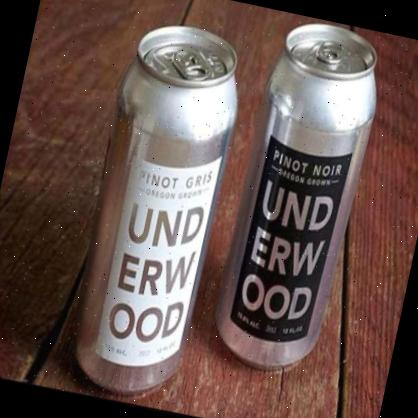can: (56, 14, 248, 407), (206, 13, 384, 383)
